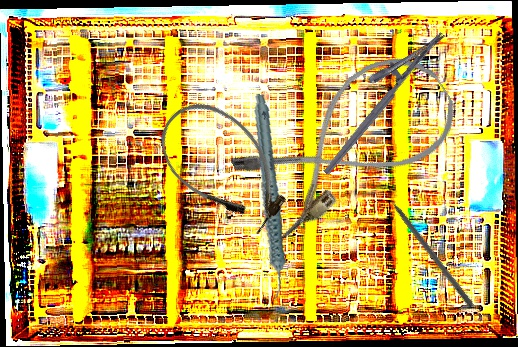Cannula: (225, 36, 471, 247), (142, 83, 306, 249)
Handpiece: (225, 93, 310, 301)
Needle Holder: (303, 15, 447, 176)
Pusher: (378, 183, 476, 309)
